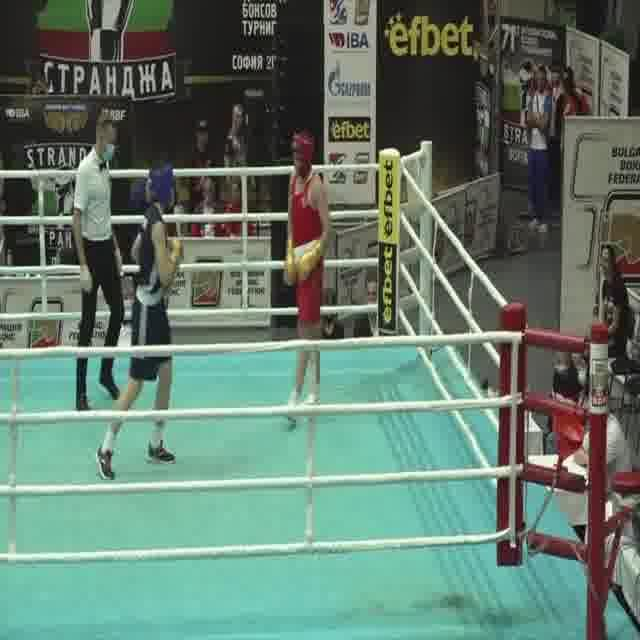blue-player: (93, 162, 179, 483)
red-player: (275, 126, 333, 429)
referee: (69, 115, 130, 415)
